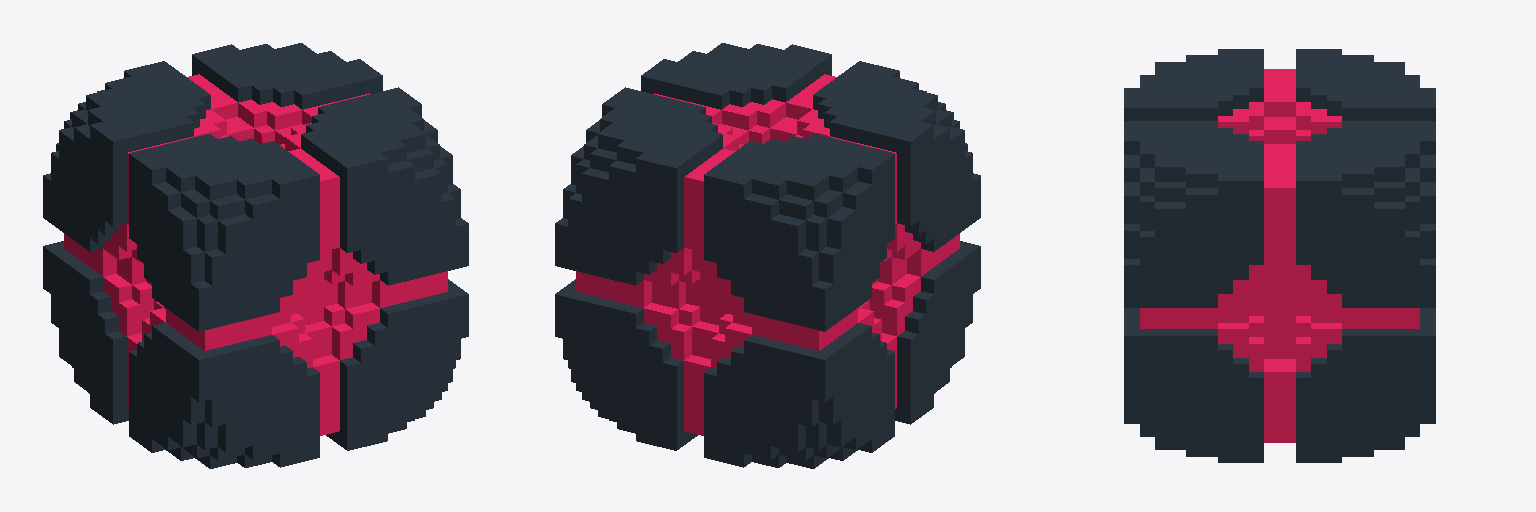
3 views of the same model, side by side, from view 1: azimuth 30°, elevation 25°; view 2: azimuth 150°, elevation 25°; view 3: azimuth 270°, elevation 25° (orthographic).
Parts seen in each view (by area): view 1: object 1; view 2: object 1; view 3: object 1.
Boxes of the visible parts, x1=… form: object 1: x1=43, y1=43, x2=468, y2=468; object 1: x1=555, y1=43, x2=980, y2=468; object 1: x1=1124, y1=49, x2=1435, y2=462.
Bounding box in the file's own units: 2 × 2 × 2.
Materials: 1 (1 with a texture image).